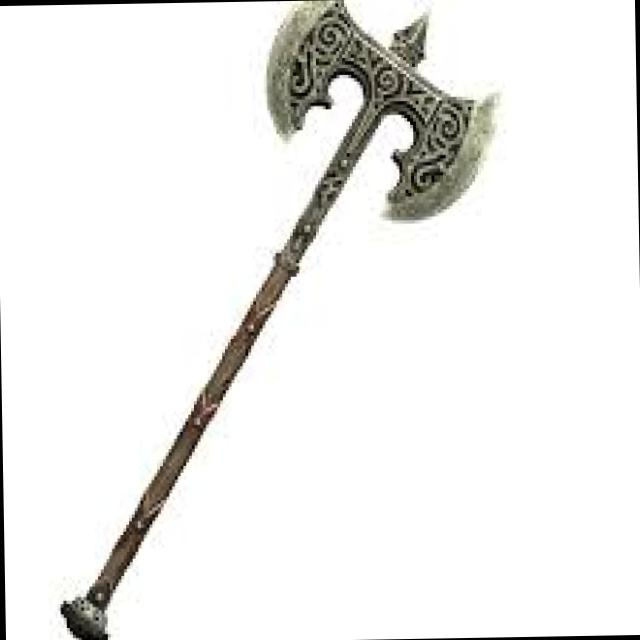Gun: (35, 0, 547, 640)
